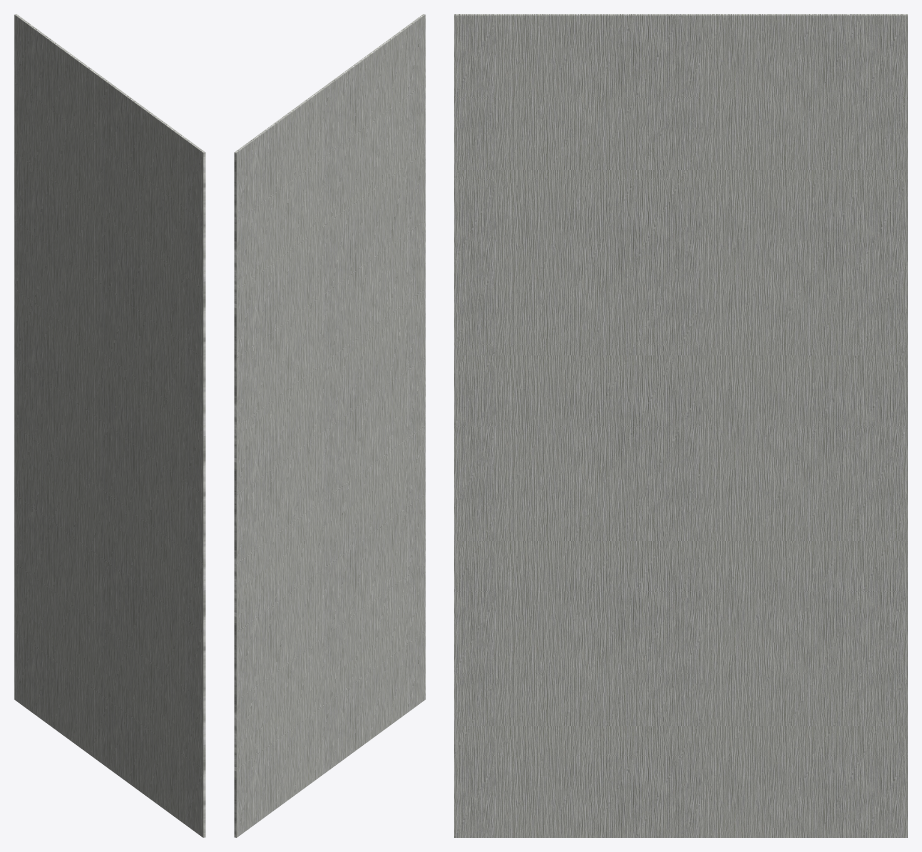
File: cloth door.fbx
3 renders of one model, left to right at view 1: azimuth 30°, elevation 25°; view 2: azimuth 150°, elevation 25°; view 3: azimuth 270°, elevation 25°, orthographic. The views are drawn at different scales.
Parts seen in each view (by area): view 1: pCube7; view 2: pCube7; view 3: pCube7.
Part boxes in pixels (bbox=[...]): pCube7: bbox=[14, 14, 205, 837]; pCube7: bbox=[234, 14, 425, 837]; pCube7: bbox=[454, 14, 907, 837].
Size of the model in its own units: 0.01 by 3 by 1.5.
1 material, 1 textured.
